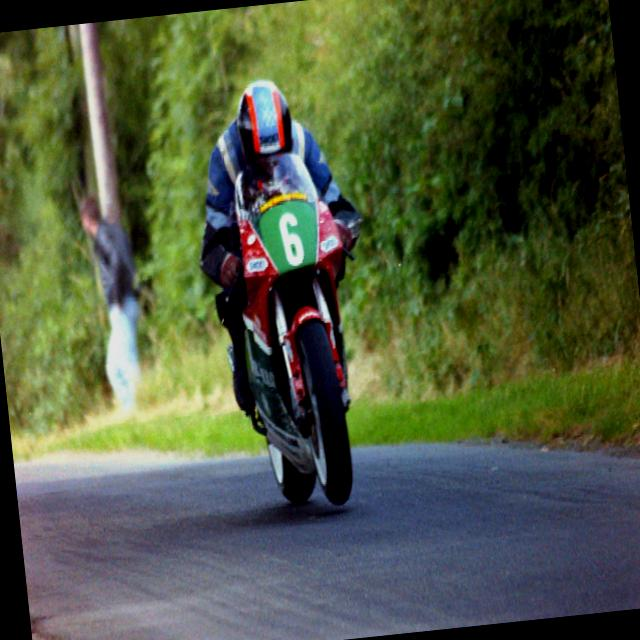Vehicle: (198, 146, 388, 513)
